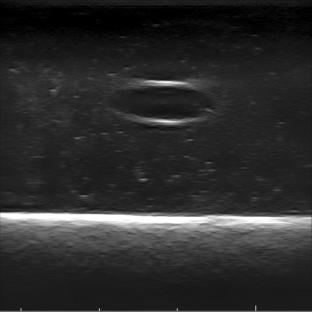vessel: (109, 80, 217, 126)
